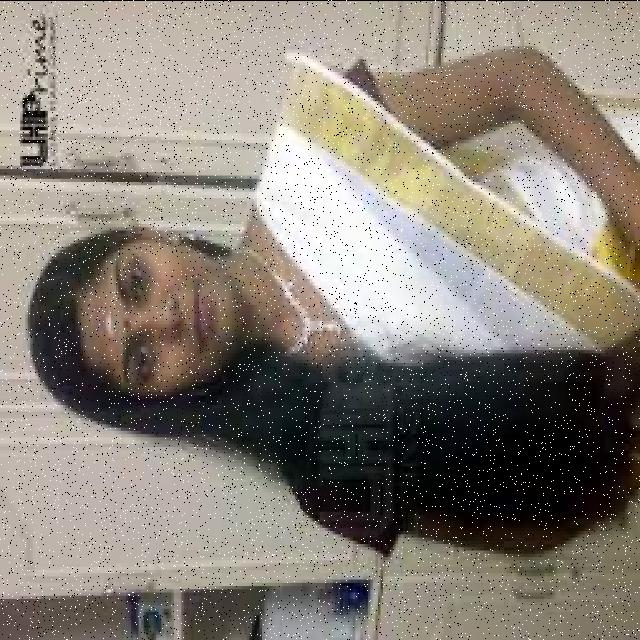Non_Helmet: (13, 168, 303, 469)
